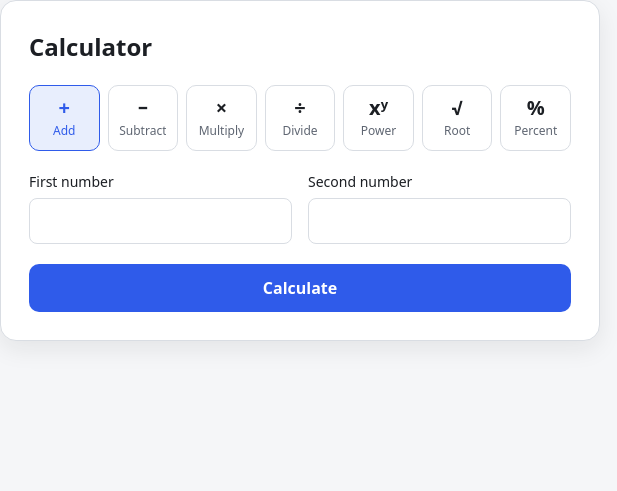
Test: Calculator › submits with the Enter key
Step 1. Click the button "− Subtract" → [143, 118], box left=108, top=85, right=178, bottom=151
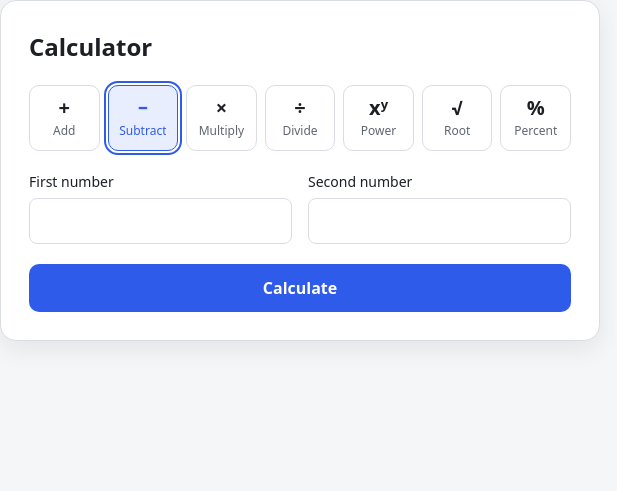
Step 2. Type "-1" into the number field labelled "First number" → [160, 221], box left=29, top=198, right=292, bottom=244
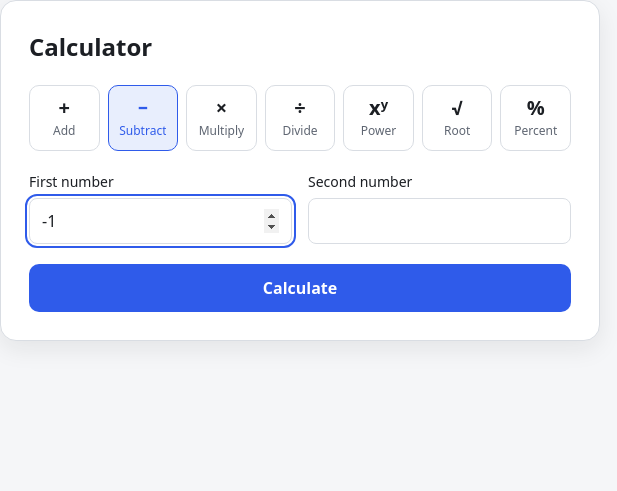
Step 3. Type "5" into the number field labelled "Second number" → [440, 221], box left=308, top=198, right=571, bottom=244
Then press Enter
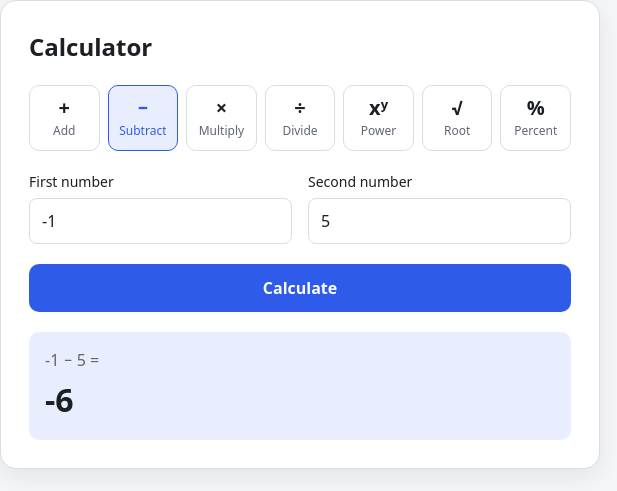
Result: the text "-1 − 5 =" is shown at left=45, top=349, right=99, bottom=371
